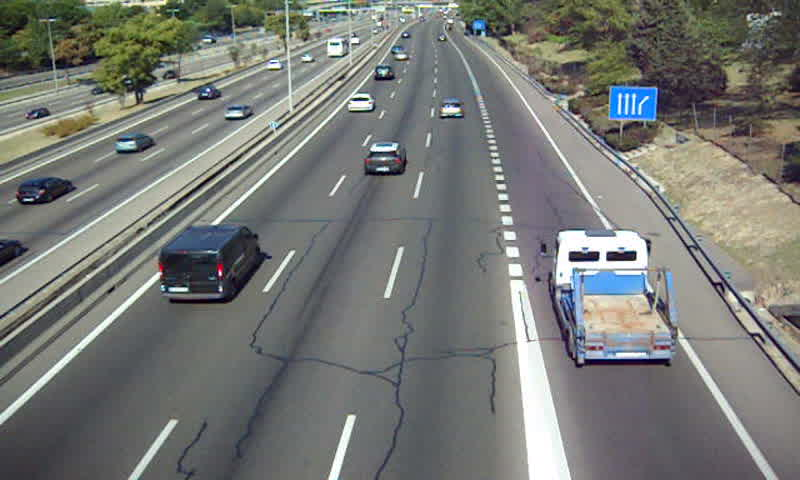car: (364, 142, 407, 174), (438, 98, 464, 119), (345, 94, 374, 112), (373, 66, 394, 82), (393, 50, 411, 63)
small-truck: (553, 229, 676, 365)
van: (161, 228, 256, 301)
